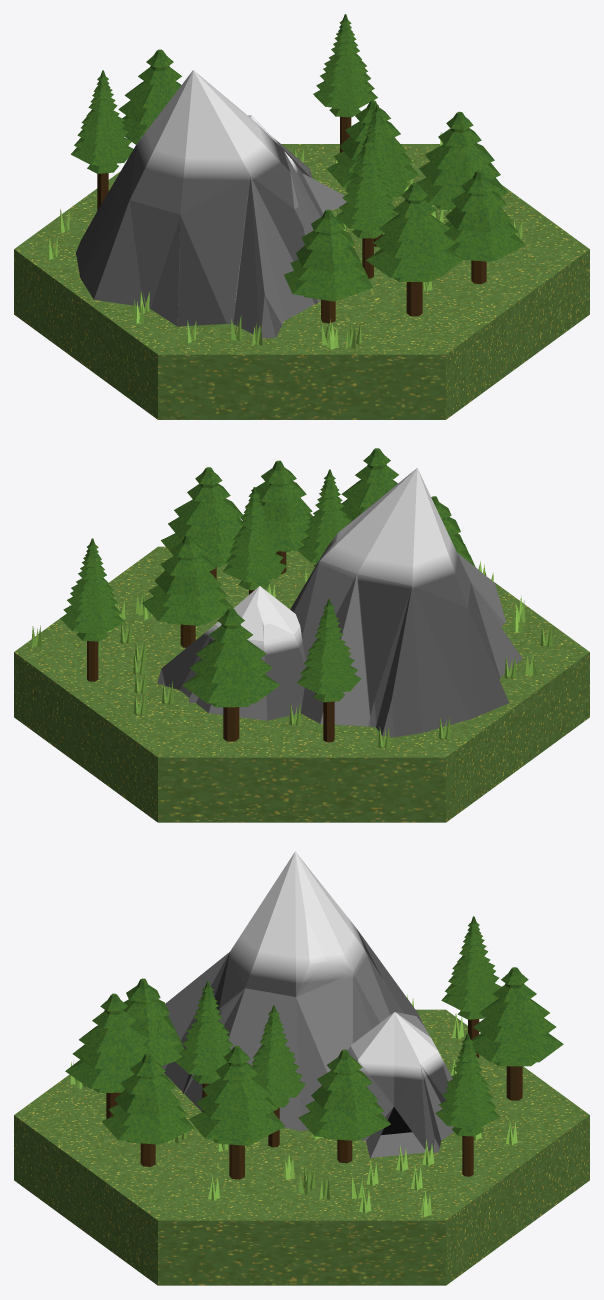
File: Hex_Mountain_Test.fbx
3 views of the same model, one above another, from view 1: azimuth 30°, elevation 25°; view 2: azimuth 150°, elevation 25°; view 3: azimuth 270°, elevation 25° (orthographic).
Parts seen in each view (by area): view 1: Hex Tile.005, Mountain Large, Tree Large, Tree Tall, Tree, Grass.001, Mountain Cave; view 2: Hex Tile.005, Mountain Large, Tree Tall, Tree Large, Tree, Mountain Cave, Grass.001; view 3: Hex Tile.005, Mountain Large, Tree Large, Tree Tall, Tree, Mountain Cave, Grass.001.
Boxes of the visible parts, x1,y1,x2,y2 form: Hex Tile.005: (14,144,589,419); Mountain Large: (76,70,320,338); Tree Large: (118,49,507,316); Tree Tall: (71,14,409,278); Tree: (284,100,525,323); Grass.001: (48,132,522,349); Mountain Cave: (248,115,346,216); Hex Tile.005: (14,546,589,822); Mountain Large: (290,468,522,737); Tree Tall: (60,469,361,742); Tree Large: (161,448,398,741); Tree: (142,460,475,647); Mountain Cave: (157,586,306,720); Grass.001: (31,557,552,748); Hex Tile.005: (14,1009,589,1285); Mountain Large: (162,851,425,1130); Tree Large: (65,967,563,1179); Tree Tall: (175,916,501,1176); Tree: (101,978,390,1166); Mountain Cave: (347,1012,453,1157); Grass.001: (70,994,517,1217).
Bounding box in the file's own units: 346 × 210 × 400.
11 materials, 10 textured.
